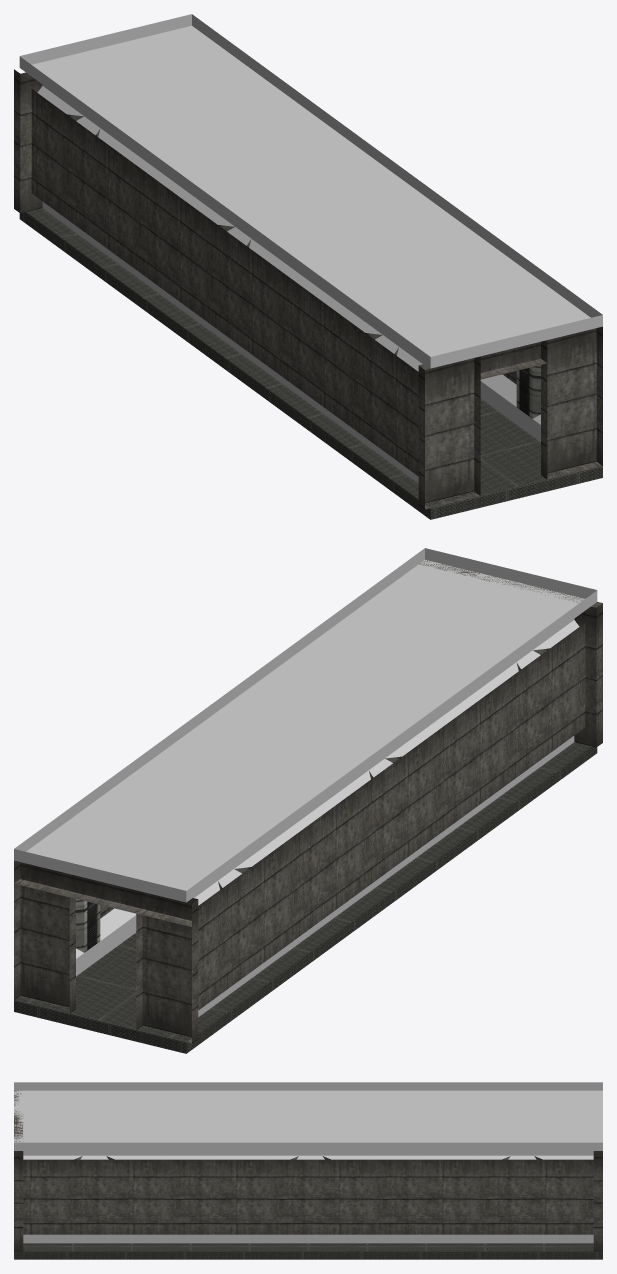
The model's file is HC_room2.gltf.
3 renders of one model, top to bottom at view 1: azimuth 30°, elevation 25°; view 2: azimuth 150°, elevation 25°; view 3: azimuth 270°, elevation 25°, orthographic. The views are drawn at different scales.
Visible parts, largest first — view 1: HC_room2.001; view 2: HC_room2.001; view 3: HC_room2.001.
Part boxes in pixels (bbox=[...]): HC_room2.001: bbox=[14, 14, 602, 519]; HC_room2.001: bbox=[14, 548, 602, 1053]; HC_room2.001: bbox=[14, 1082, 602, 1259].
Size of the model in its own units: 5.12 by 4.48 by 20.48.
